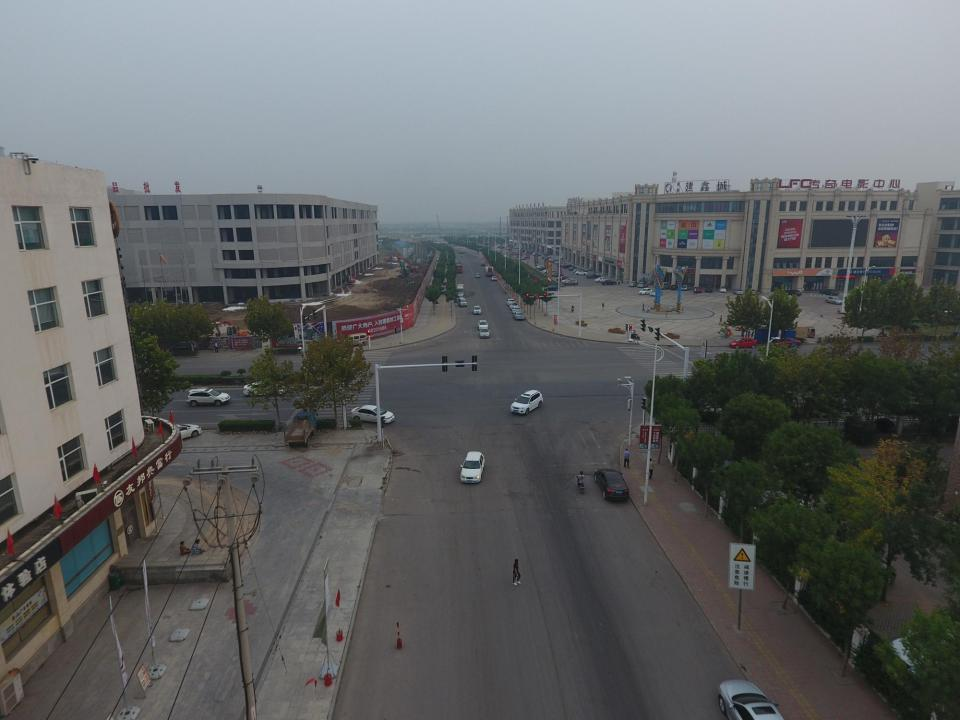car: (718, 679, 786, 720), (594, 469, 629, 500), (510, 389, 543, 415), (460, 452, 485, 484), (186, 388, 230, 406), (351, 405, 394, 423), (243, 381, 285, 397), (162, 424, 202, 440), (728, 338, 756, 349), (773, 338, 801, 348), (562, 277, 576, 287), (478, 327, 490, 338), (825, 297, 843, 304), (785, 289, 802, 296), (820, 289, 839, 295), (478, 320, 489, 330), (638, 288, 652, 295), (565, 280, 579, 287), (544, 285, 560, 291), (553, 260, 569, 266), (543, 292, 558, 298), (594, 277, 609, 283), (601, 279, 616, 285), (574, 268, 589, 274), (513, 312, 524, 320), (586, 273, 600, 279), (649, 290, 663, 296), (557, 276, 571, 282), (548, 270, 562, 276), (574, 272, 592, 276), (628, 281, 639, 287), (670, 284, 681, 290), (681, 284, 692, 290), (536, 264, 547, 270), (473, 306, 481, 314), (506, 298, 514, 306), (512, 307, 521, 314), (638, 282, 648, 288), (733, 288, 743, 294), (509, 303, 518, 309), (564, 262, 574, 267), (560, 261, 570, 266), (694, 286, 702, 292), (747, 289, 755, 295), (543, 269, 555, 273), (549, 258, 561, 262), (544, 256, 553, 261), (705, 286, 712, 292), (569, 266, 579, 270), (720, 286, 726, 292), (475, 273, 480, 278), (491, 276, 496, 281), (480, 262, 485, 266)
truck: (285, 411, 318, 446), (457, 284, 464, 297), (485, 266, 494, 276), (455, 262, 462, 274)
van: (167, 341, 198, 355), (341, 333, 368, 346), (458, 297, 467, 307), (660, 282, 672, 289), (457, 294, 465, 302)
